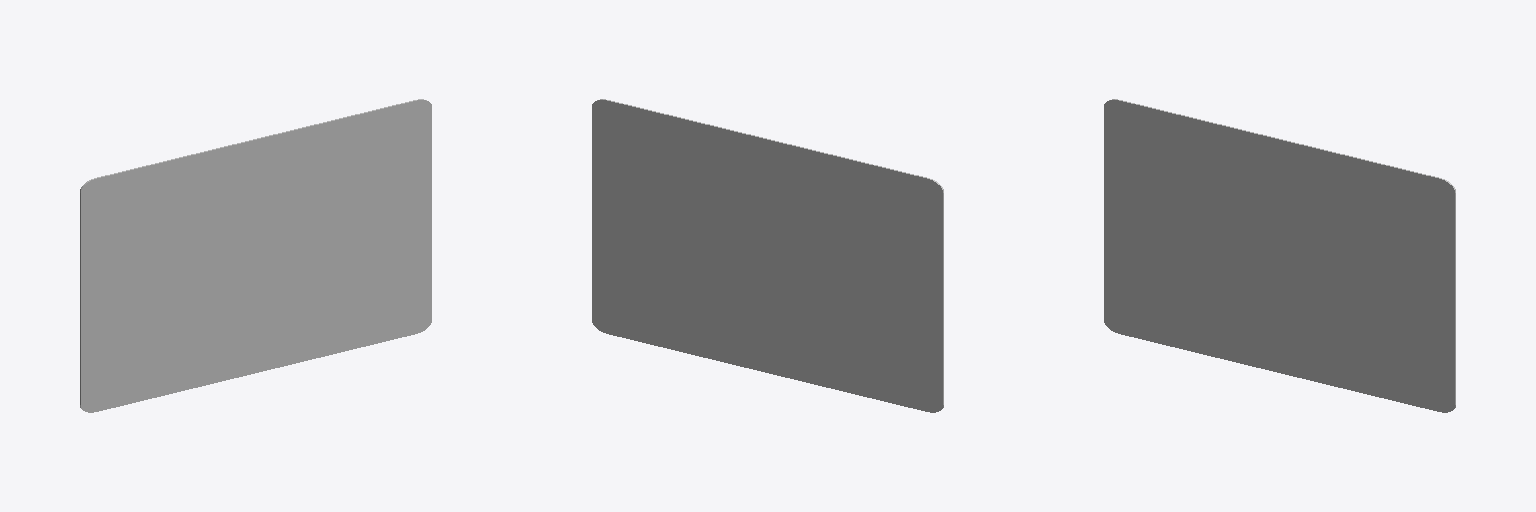
The model's file is Binance_card.obj.
3 renders of one model, left to right at view 1: azimuth 30°, elevation 25°; view 2: azimuth 150°, elevation 25°; view 3: azimuth 330°, elevation 25°, orthographic.
Parts seen in each view (by area): view 1: Cube.001; view 2: Cube.001; view 3: Cube.001.
Boxes of the visible parts, x1=… form: Cube.001: x1=80, y1=99, x2=431, y2=412; Cube.001: x1=592, y1=99, x2=943, y2=412; Cube.001: x1=1104, y1=99, x2=1455, y2=412.
Bounding box in the file's own units: 0.8985 × 0.5696 × 0.0045.